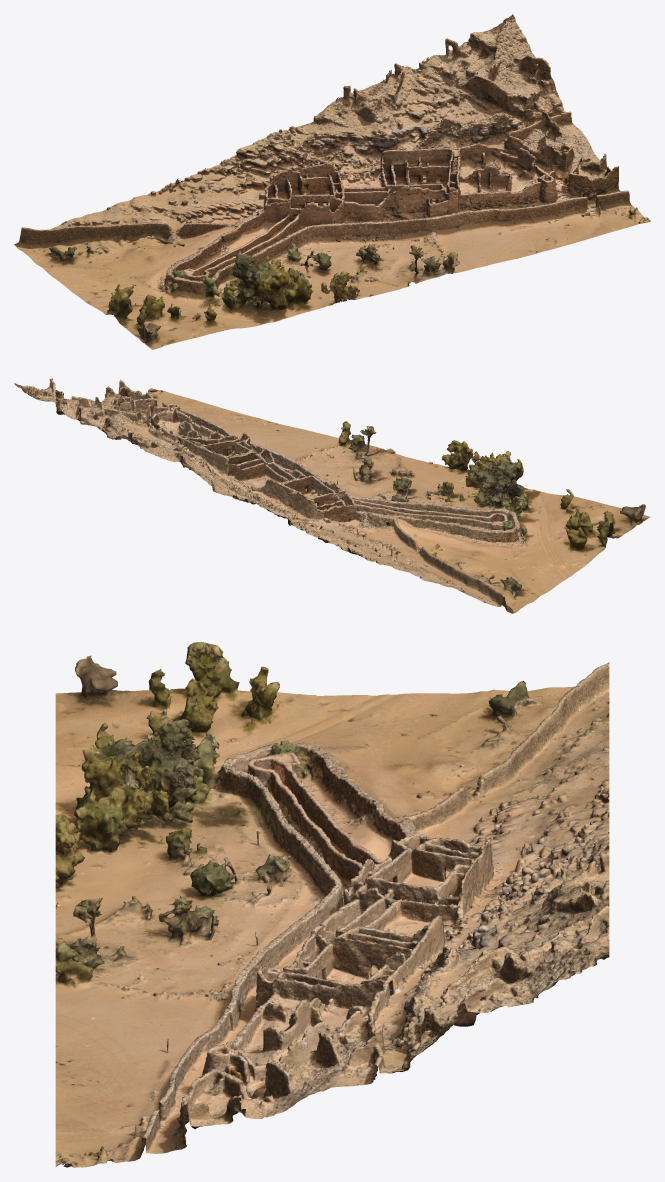
3 renders of one model, top to bottom at view 1: azimuth 30°, elevation 25°; view 2: azimuth 150°, elevation 25°; view 3: azimuth 270°, elevation 25°, orthographic. The views are drawn at different scales.
Visible parts, largest first — view 1: MRT_001_M7_Puits; view 2: MRT_001_M7_Puits; view 3: MRT_001_M7_Puits.
Part boxes in pixels (x1,y1,x2,y2): MRT_001_M7_Puits: (14, 14, 650, 349); MRT_001_M7_Puits: (14, 378, 650, 613); MRT_001_M7_Puits: (55, 642, 609, 1167).
Size of the model in its own units: 108 by 30.15 by 52.1.
1 material, 1 textured.
